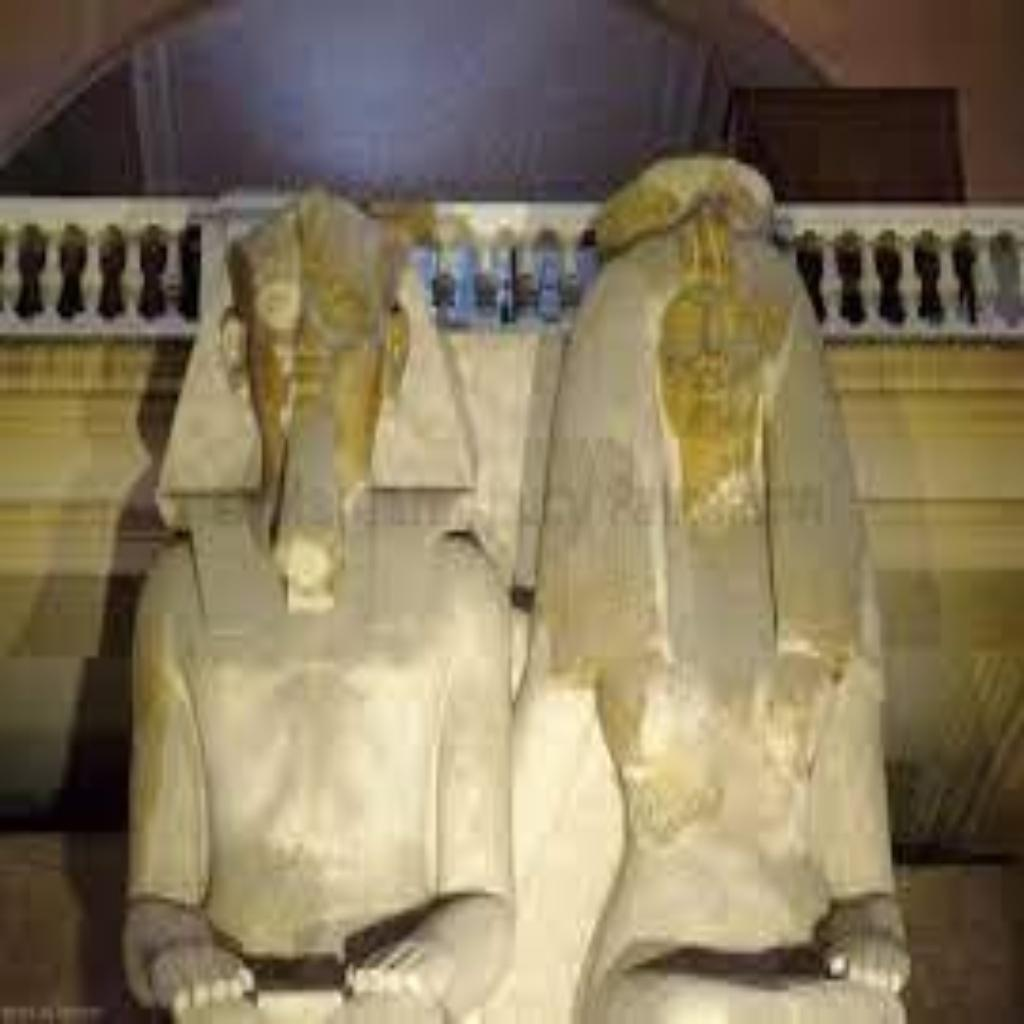Amenhotep III and Tiye: (122, 144, 914, 1024)
